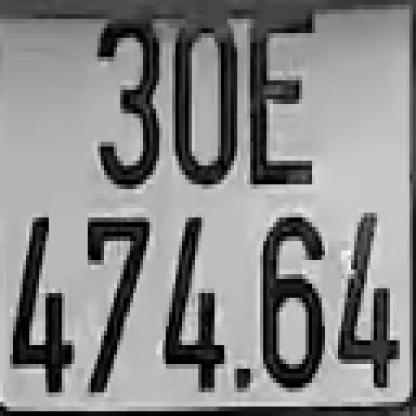0: (176, 19, 234, 189)
3: (95, 24, 160, 189)
4: (10, 213, 72, 392), (335, 208, 396, 383), (166, 212, 224, 388)
6: (256, 212, 322, 388)
7: (87, 217, 150, 383)
E: (247, 14, 312, 189)
